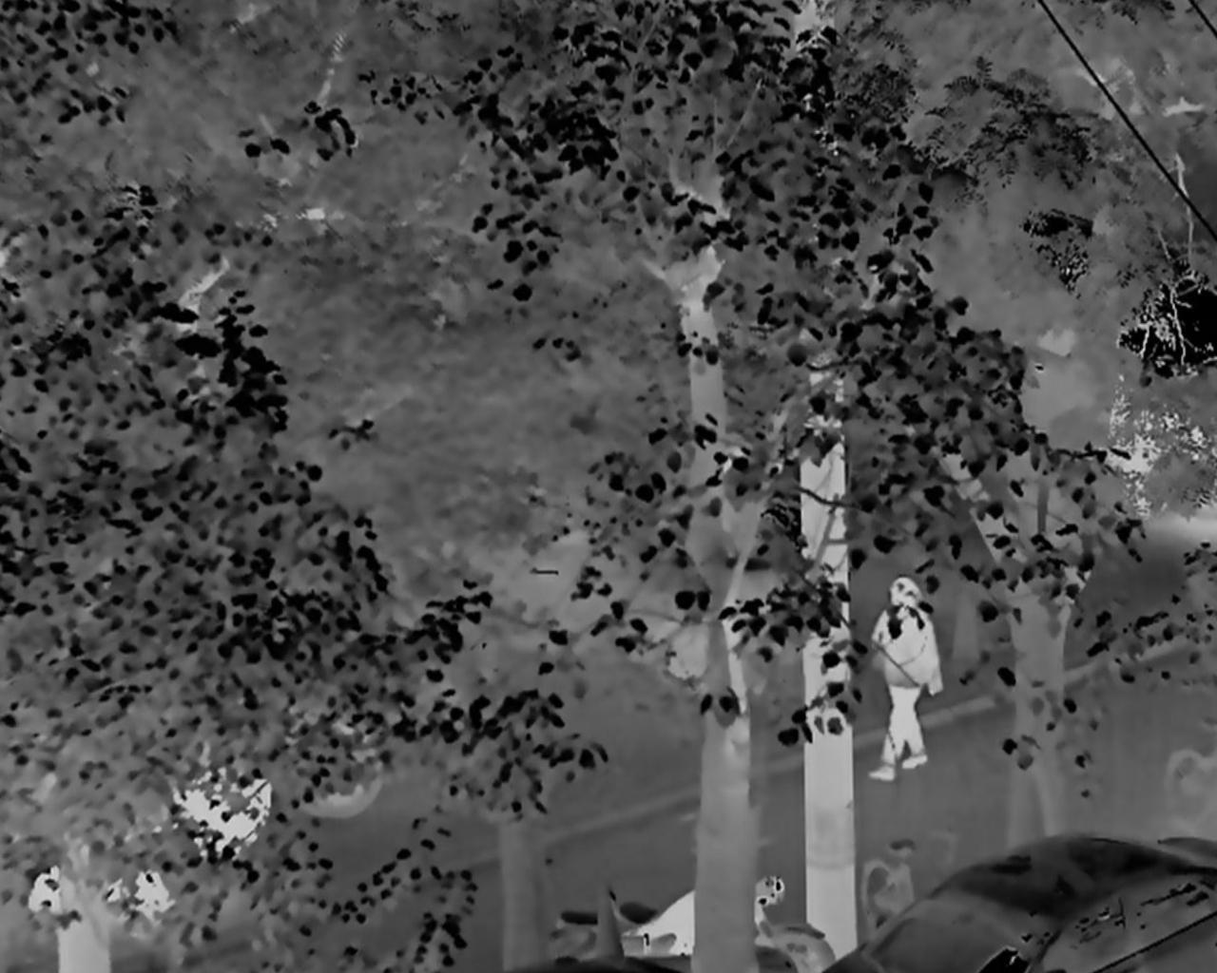person: (869, 573, 944, 780)
